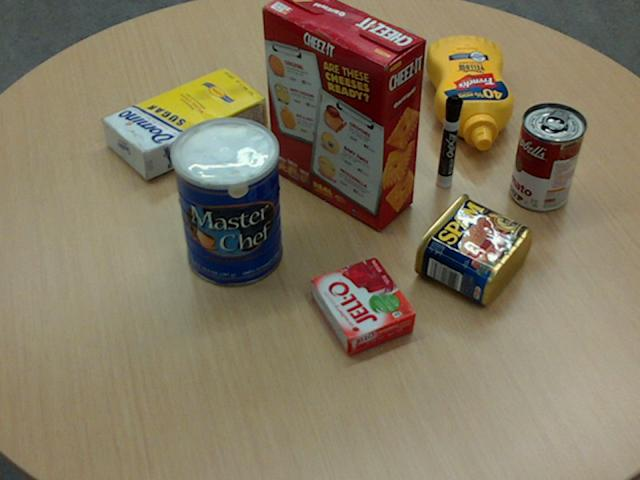cracker_box: (262, 0, 424, 229)
gelatin_box: (311, 256, 416, 354)
large_marker: (436, 95, 462, 187)
master_chef_can: (170, 116, 281, 286)
mug: (318, 33, 395, 125)
mustard_bottle: (425, 35, 513, 150)
potted_meat_can: (412, 192, 530, 303)
sugar_box: (101, 66, 267, 178)
tomato_soup_can: (510, 102, 585, 210)
tuna_fish_can: (356, 24, 419, 80)
